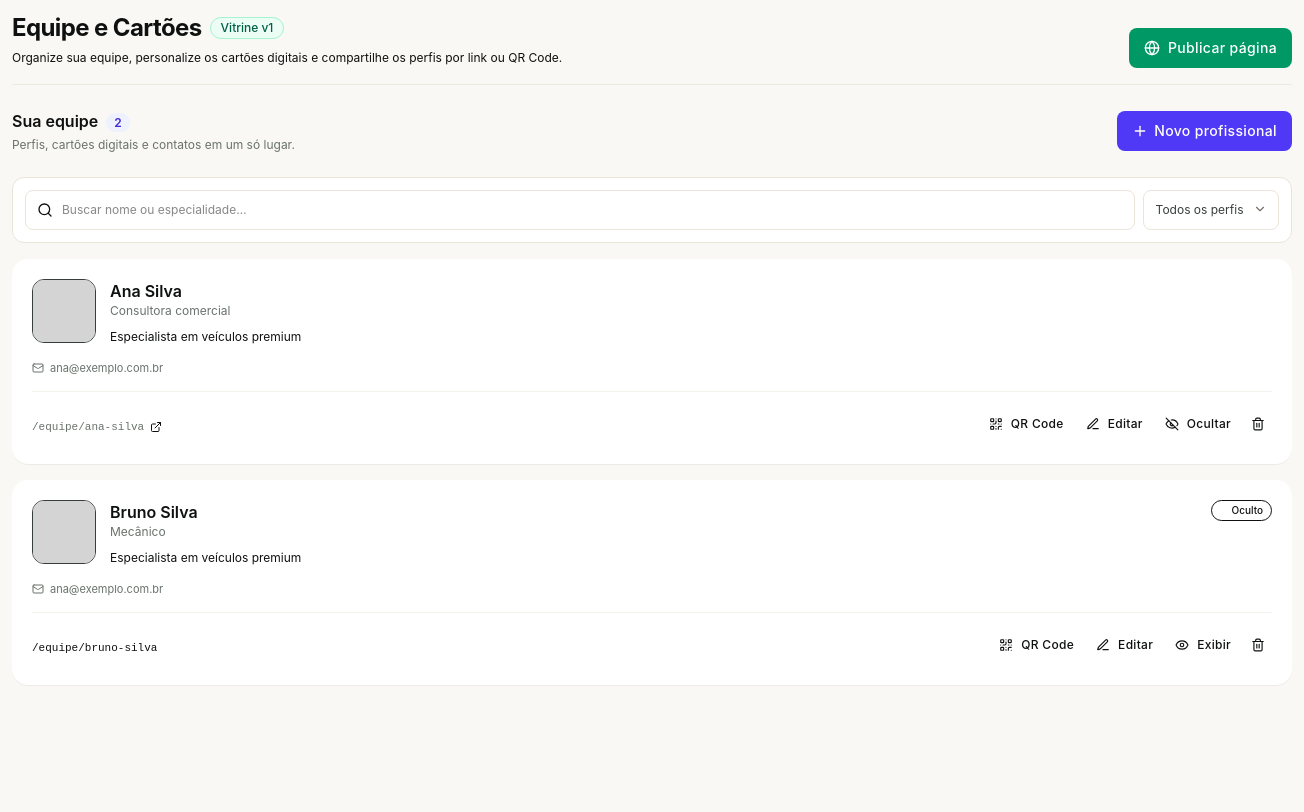
Test: Equipe do painel › conserva o perfil e permite tentar novamente se a exclusão confirmada falhar
What coordinates should you click on to do the following:
click the button named "Excluir Ana Silva"
I would click on:
 (1258, 424)
Its box is [1244, 404, 1272, 444].
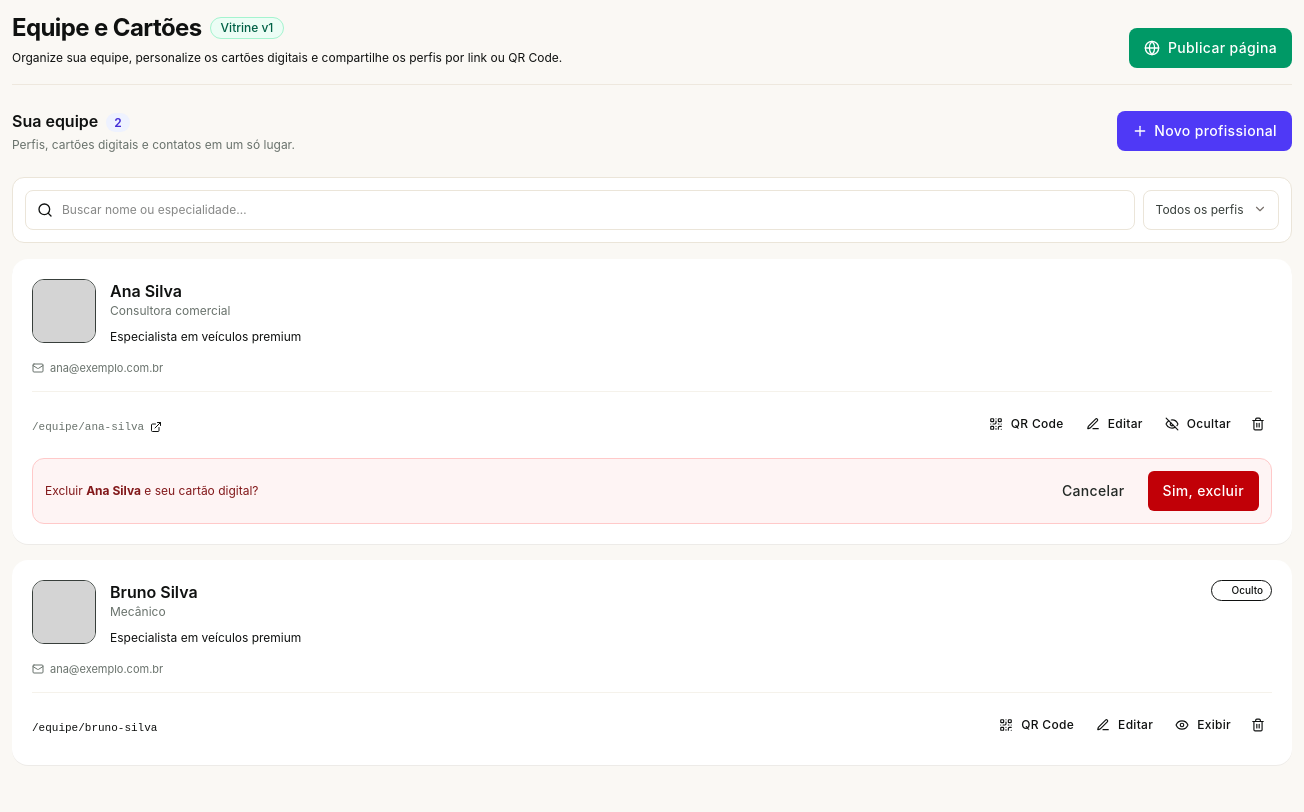
What coordinates should you click on to do the following:
click the button "Sim, excluir"
I would click on:
 (1203, 490)
Its box is [1148, 470, 1259, 510].
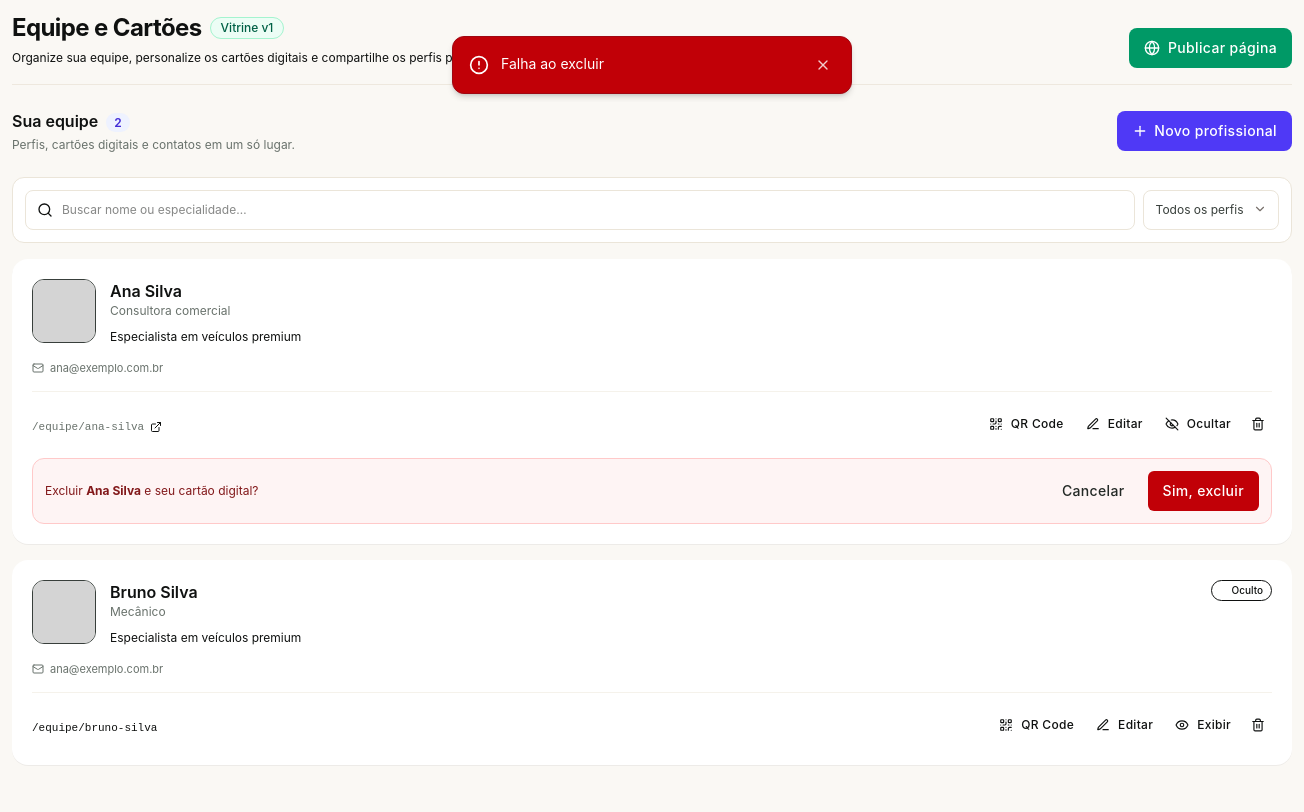
Expected: the button with aria-label "Editar Ana Silva" is enabled, [1077, 404, 1152, 444]
Result: the button "Sim, excluir" is enabled at [1148, 470, 1259, 510]
Result: the message reads "Falha ao excluir" at [501, 55, 604, 72]
